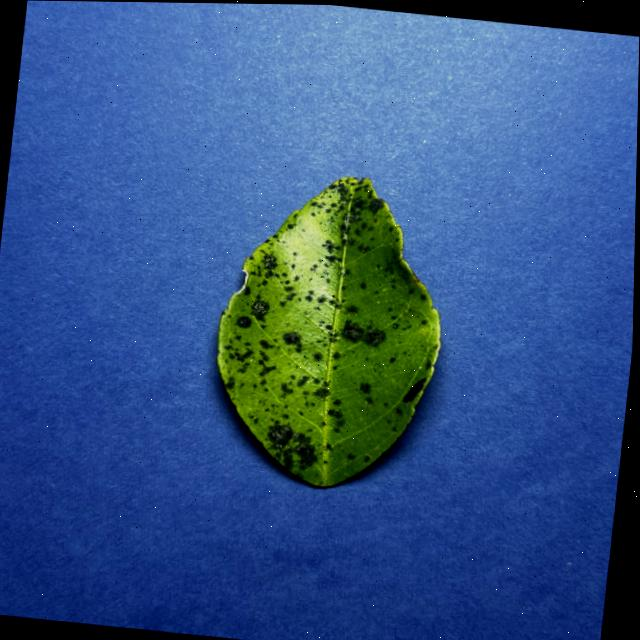sooty_mold: (217, 177, 439, 486)
